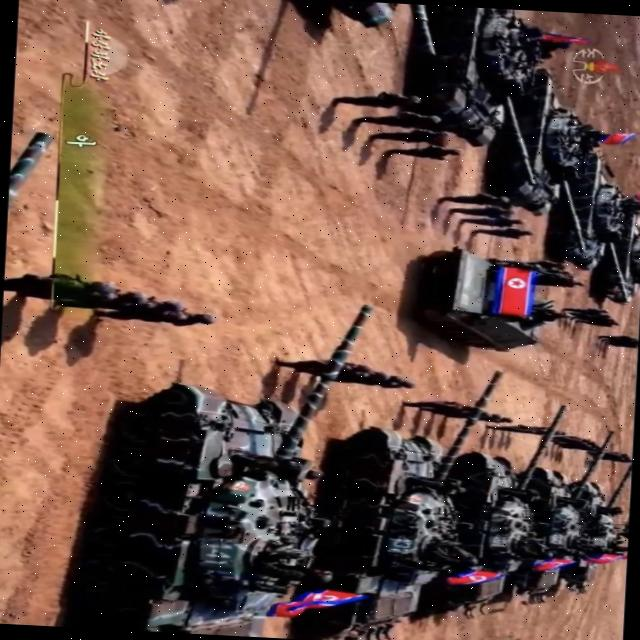north tank: (15, 284, 384, 640), (275, 361, 521, 640), (426, 402, 585, 640), (386, 3, 568, 148), (504, 442, 606, 640), (476, 74, 614, 213), (536, 160, 633, 286), (572, 483, 632, 602), (588, 224, 640, 315)
